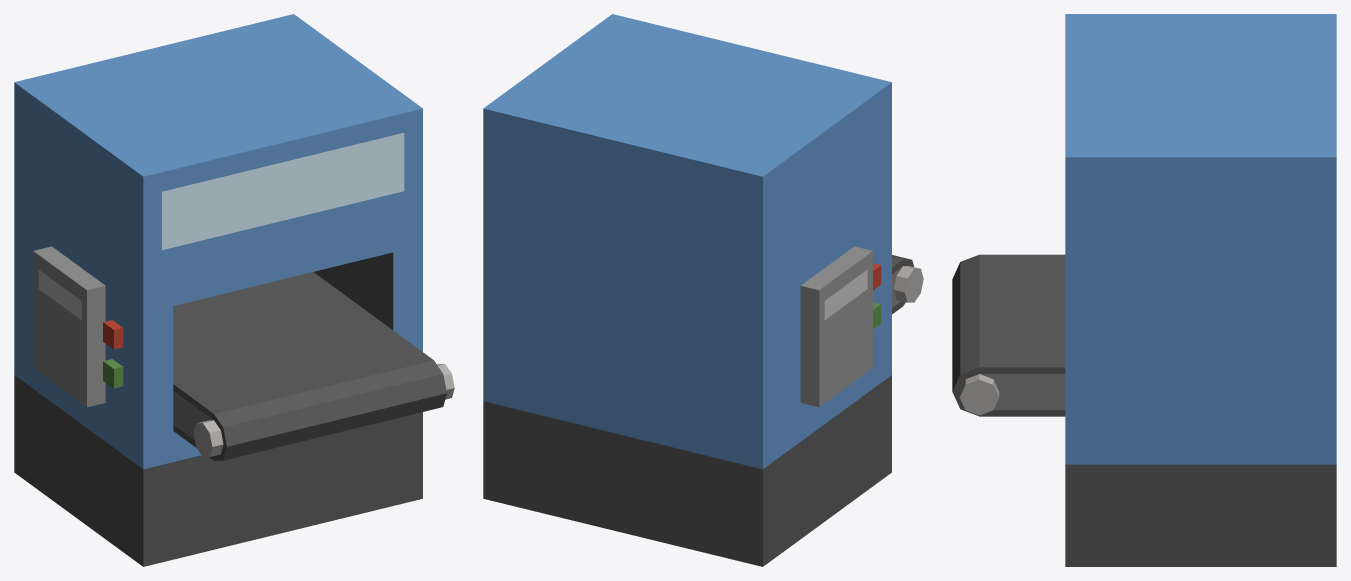
Rendered from FoodMachine03.fbx.
The picture shows the model from 3 angles, left to right: view 1: azimuth 30°, elevation 25°; view 2: azimuth 150°, elevation 25°; view 3: azimuth 270°, elevation 25°; orthographic projection. The views are drawn at different scales.
Parts seen in each view (by area): view 1: FoodMachine03; view 2: FoodMachine03; view 3: FoodMachine03.
Boxes of the visible parts, x1,y1,x2,y2 form: FoodMachine03: (14,14,454,566); FoodMachine03: (483,14,923,566); FoodMachine03: (952,14,1336,566).
Size of the model in its own units: 1.6 by 2 by 1.7.
Materials: 1 (1 with a texture image).
